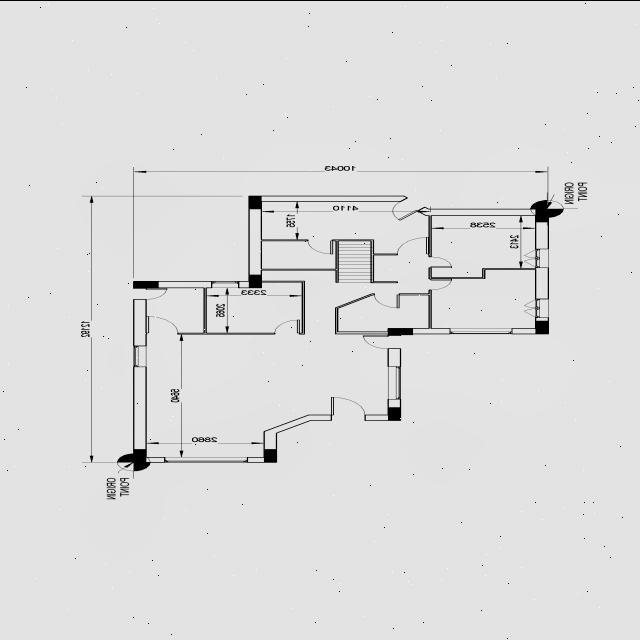Column: (388, 406, 402, 420), (536, 208, 550, 222), (248, 194, 262, 208), (248, 274, 262, 288), (535, 320, 549, 334), (264, 448, 277, 462), (388, 327, 413, 334), (134, 448, 146, 462), (134, 280, 158, 287)
Door: (330, 396, 367, 420), (390, 197, 428, 220), (144, 314, 180, 334), (396, 235, 430, 255), (273, 318, 301, 334), (374, 292, 402, 308), (306, 238, 334, 254), (362, 334, 392, 348), (428, 276, 453, 290), (144, 286, 168, 300), (428, 255, 453, 268)
Staircase: (335, 238, 375, 282)
Window: (386, 365, 402, 399), (523, 248, 550, 268), (162, 456, 250, 462), (448, 326, 514, 334), (524, 297, 550, 317), (132, 343, 148, 368), (209, 280, 241, 288)
